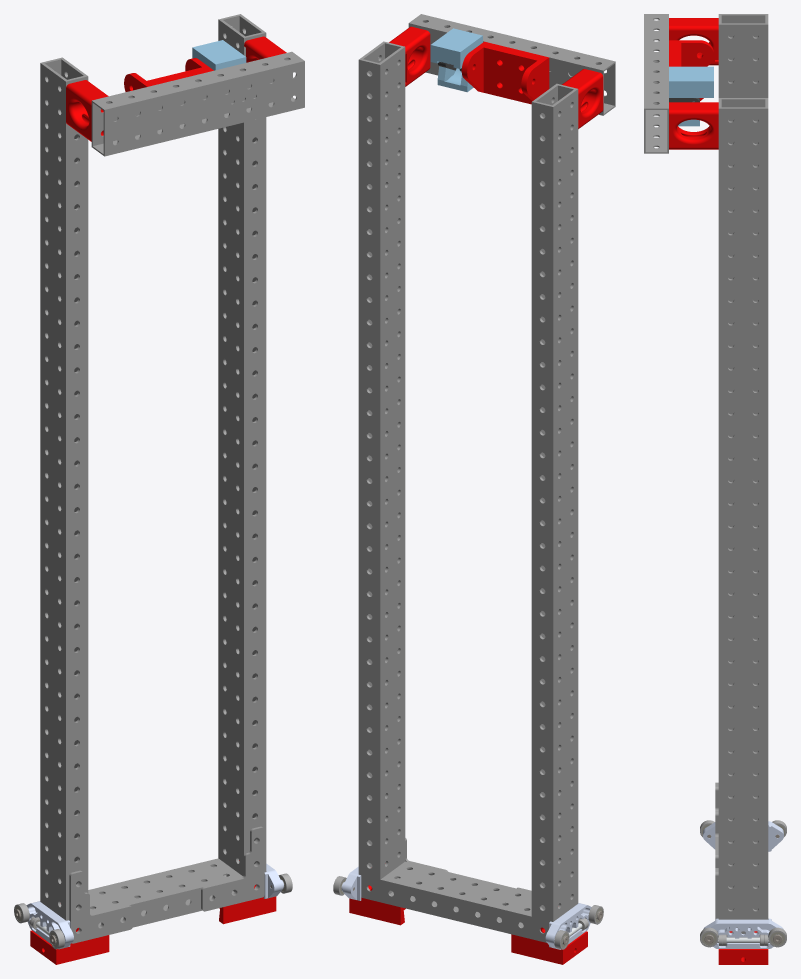
3 views of the same model, side by side, from view 1: azimuth 30°, elevation 25°; view 2: azimuth 150°, elevation 25°; view 3: azimuth 270°, elevation 25° (orthographic). The views are drawn at different scales.
Visible parts, largest first — view 1: S1 vertical [S1 vertical [0:1:1:2:2]] [0:1:1:2:2], S1 vertical [S1 vertical [0:1:1:2:4]] [0:1:1:2:4], S1 9" 2x1 cross tube [S1 9" 2x1 cross tube [0:1:1:2:6]] [0:1, S1 base tube [S1 base tube [0:1:1:2:5]] [0:1:1:2:5], Corner L Gusset [Corner L Gusset [0:1:1:2:15]] [0:1:1:2:15], Upper Lower Tube Insert Mirrored [Upper Lower Tube Insert Mi (×2), Corner L Gusset [Corner L Gusset [0:1:1:2:9]] [0:1:1:2:9], Elevator Upper Tube Standoff [Elevator Upper Tube Standoff [ (×2), Pulley Cover A QTY2 [Pulley Cover A QTY2 [0:1:1:2:13]] [0:1:, WCP-0897-001 Rev1 [WCP-0897-001 Rev1 [0:1:1:21:3]] [0:1:1:23, Upper Spring Mount V2 [Upper Spring Mount V2 [0:1:1:2:3]] [0; view 2: S1 vertical [S1 vertical [0:1:1:2:4]] [0:1:1:2:4], S1 vertical [S1 vertical [0:1:1:2:2]] [0:1:1:2:2], S1 base tube [S1 base tube [0:1:1:2:5]] [0:1:1:2:5], Upper Spring Mount V2 [Upper Spring Mount V2 [0:1:1:2:3]] [0, S1 9" 2x1 cross tube [S1 9" 2x1 cross tube [0:1:1:2:6]] [0:1, Elevator Upper Tube Standoff [Elevator Upper Tube Standoff [ (×2), Upper Lower Tube Insert Mirrored [Upper Lower Tube Insert Mi (×2), Pulley Cover A QTY2 [Pulley Cover A QTY2 [0:1:1:2:13]] [0:1:, WCP-0897-001 Rev1 [WCP-0897-001 Rev1 [0:1:1:21:3]] [0:1:1:23; view 3: S1 vertical [S1 vertical [0:1:1:2:4]] [0:1:1:2:4], S1 vertical [S1 vertical [0:1:1:2:2]] [0:1:1:2:2], S1 9" 2x1 cross tube [S1 9" 2x1 cross tube [0:1:1:2:6]] [0:1, Elevator Upper Tube Standoff [Elevator Upper Tube Standoff [ (×2), Pulley Cover A QTY2 [Pulley Cover A QTY2 [0:1:1:2:13]] [0:1:, WCP-0897-001 Rev1 [WCP-0897-001 Rev1 [0:1:1:14:1]] [0:1:1:13, Upper Spring Mount V2 [Upper Spring Mount V2 [0:1:1:2:3]] [0, Upper Lower Tube Insert Mirrored [Upper Lower Tube Insert Mi, WCP-0897-001 Rev1 [WCP-0897-001 Rev1 [0:1:1:21:3]] [0:1:1:23, Corner L Gusset [Corner L Gusset [0:1:1:2:9]] [0:1:1:2:9].
Boxes of the visible parts, <box> form: S1 vertical [S1 vertical [0:1:1:2:2]] [0:1:1:2:2]: <box>40,57,88,932</box>; S1 vertical [S1 vertical [0:1:1:2:4]] [0:1:1:2:4]: <box>218,14,266,891</box>; S1 9" 2x1 cross tube [S1 9" 2x1 cross tube [0:1:1:2:6]] [0:1: <box>91,51,304,156</box>; S1 base tube [S1 base tube [0:1:1:2:5]] [0:1:1:2:5]: <box>88,858,242,927</box>; Corner L Gusset [Corner L Gusset [0:1:1:2:15]] [0:1:1:2:15]: <box>201,826,264,911</box>; Upper Lower Tube Insert Mirrored [Upper Lower Tube Insert Mi (×2): <box>30,860,276,964</box>; Corner L Gusset [Corner L Gusset [0:1:1:2:9]] [0:1:1:2:9]: <box>69,870,132,943</box>; Elevator Upper Tube Standoff [Elevator Upper Tube Standoff [ (×2): <box>66,36,286,141</box>; Pulley Cover A QTY2 [Pulley Cover A QTY2 [0:1:1:2:13]] [0:1:: <box>192,40,246,70</box>; WCP-0897-001 Rev1 [WCP-0897-001 Rev1 [0:1:1:21:3]] [0:1:1:23: <box>26,901,73,949</box>; Upper Spring Mount V2 [Upper Spring Mount V2 [0:1:1:2:3]] [0: <box>124,58,213,91</box>; S1 vertical [S1 vertical [0:1:1:2:4]] [0:1:1:2:4]: <box>358,41,405,901</box>; S1 vertical [S1 vertical [0:1:1:2:2]] [0:1:1:2:2]: <box>531,83,578,942</box>; S1 base tube [S1 base tube [0:1:1:2:5]] [0:1:1:2:5]: <box>380,861,531,938</box>; Upper Spring Mount V2 [Upper Spring Mount V2 [0:1:1:2:3]] [0: <box>461,41,549,104</box>; S1 9" 2x1 cross tube [S1 9" 2x1 cross tube [0:1:1:2:6]] [0:1: <box>408,14,615,115</box>; Elevator Upper Tube Standoff [Elevator Upper Tube Standoff [ (×2): <box>389,26,603,128</box>; Upper Lower Tube Insert Mirrored [Upper Lower Tube Insert Mi (×2): <box>349,885,587,964</box>; Pulley Cover A QTY2 [Pulley Cover A QTY2 [0:1:1:2:13]] [0:1:: <box>430,28,482,68</box>; WCP-0897-001 Rev1 [WCP-0897-001 Rev1 [0:1:1:21:3]] [0:1:1:23: <box>545,903,591,949</box>; S1 vertical [S1 vertical [0:1:1:2:4]] [0:1:1:2:4]: <box>718,98,768,936</box>; S1 vertical [S1 vertical [0:1:1:2:2]] [0:1:1:2:2]: <box>718,14,768,97</box>; S1 9" 2x1 cross tube [S1 9" 2x1 cross tube [0:1:1:2:6]] [0:1: <box>644,14,668,153</box>; Elevator Upper Tube Standoff [Elevator Upper Tube Standoff [ (×2): <box>669,18,718,149</box>; Pulley Cover A QTY2 [Pulley Cover A QTY2 [0:1:1:2:13]] [0:1:: <box>669,66,713,97</box>; WCP-0897-001 Rev1 [WCP-0897-001 Rev1 [0:1:1:14:1]] [0:1:1:13: <box>703,918,783,948</box>; Upper Spring Mount V2 [Upper Spring Mount V2 [0:1:1:2:3]] [0: <box>669,40,713,100</box>; Upper Lower Tube Insert Mirrored [Upper Lower Tube Insert Mi: <box>718,931,768,964</box>; WCP-0897-001 Rev1 [WCP-0897-001 Rev1 [0:1:1:21:3]] [0:1:1:23: <box>703,821,783,851</box>; Corner L Gusset [Corner L Gusset [0:1:1:2:9]] [0:1:1:2:9]: <box>715,782,718,867</box>.
Bounding box in the file's own units: 0.2702 × 0.9665 × 0.146.
